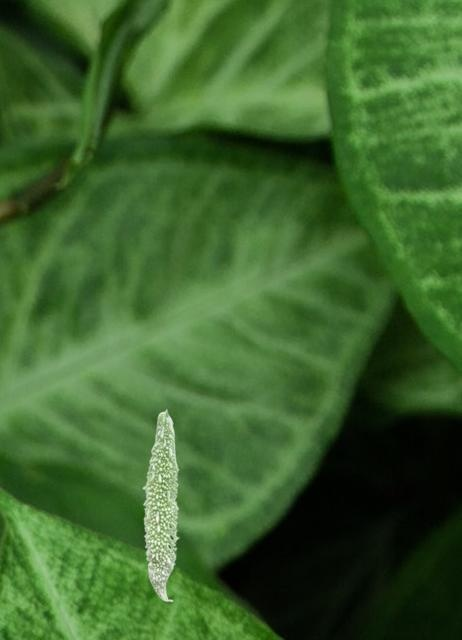ampalaya: (140, 408, 181, 602)
